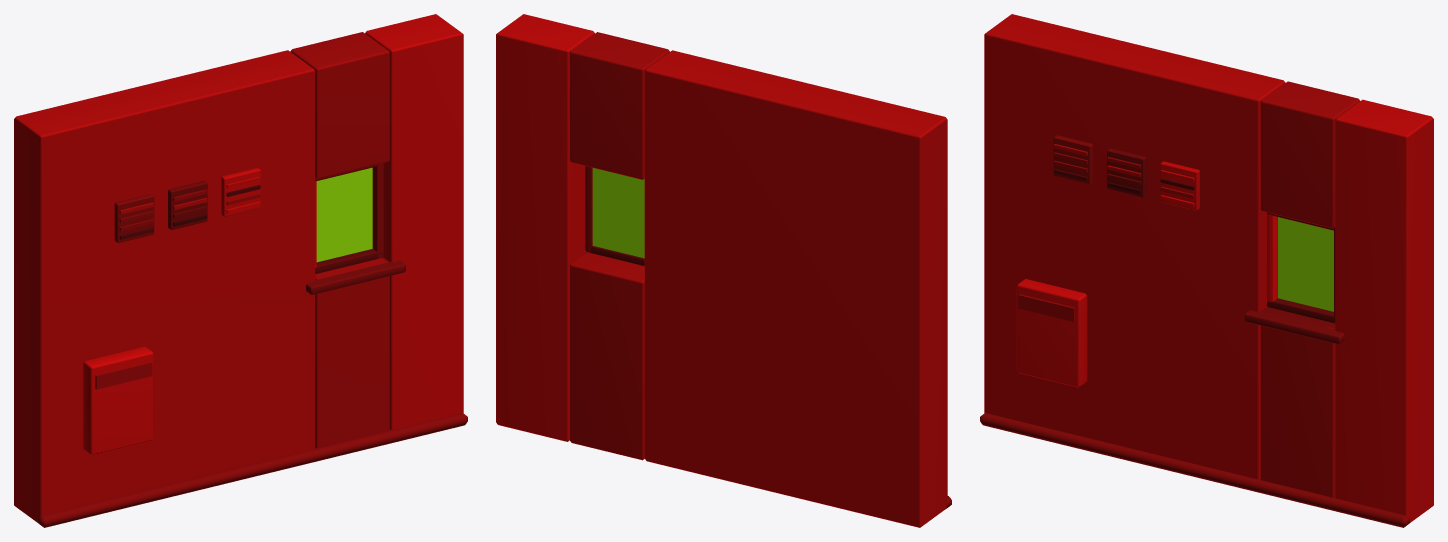
The model's file is fac_blank_a.glb.
The picture shows the model from 3 angles, left to right: view 1: azimuth 30°, elevation 25°; view 2: azimuth 150°, elevation 25°; view 3: azimuth 330°, elevation 25°; orthographic projection.
Parts seen in each view (by area): view 1: fac_blank_a; view 2: fac_blank_a; view 3: fac_blank_a.
Boxes of the visible parts, x1,y1,x2,y2 form: fac_blank_a: (14,14,467,527); fac_blank_a: (496,14,951,527); fac_blank_a: (980,14,1433,527).
Size of the model in its own units: 4 by 3.5 by 0.62.
